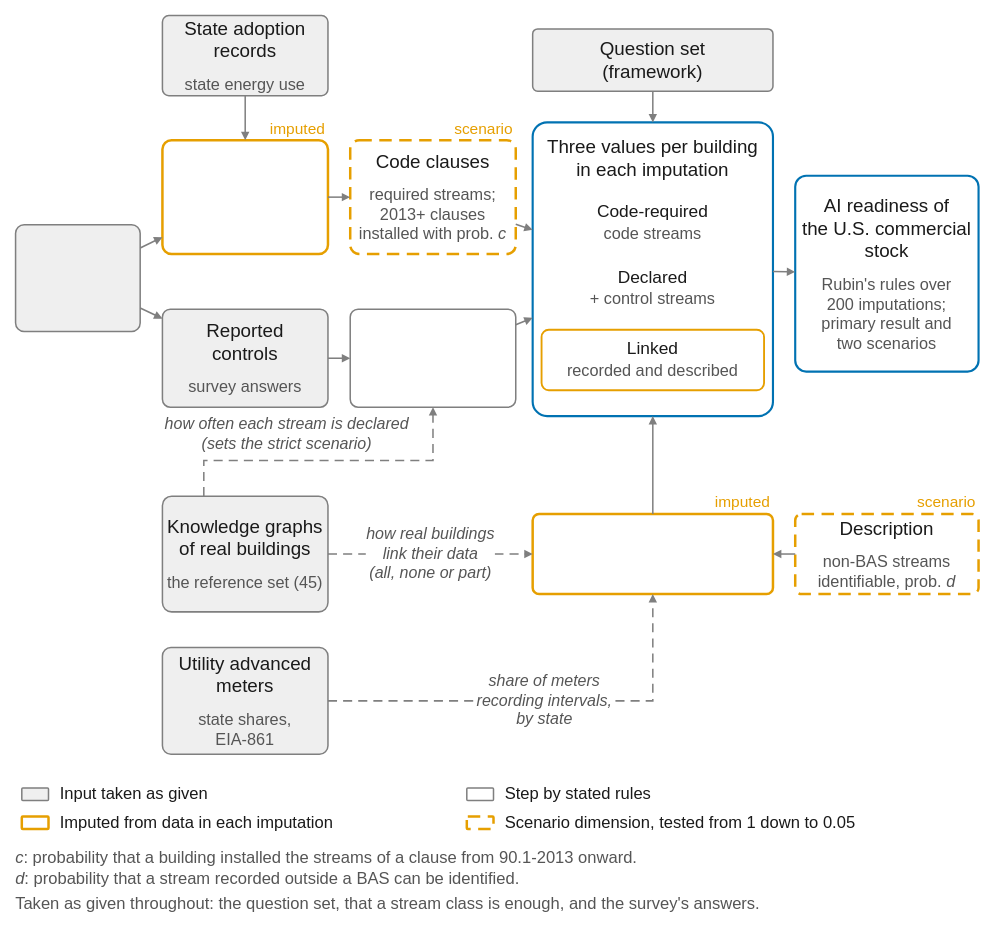
The diagram is 996 pixels wide and 931 high, and some of its shapes have lost their labels. Here are the shapes that lost their labels. From the top down, the box of each, then its label:
(161, 138, 329, 255): Code edition state weighted by division energy use; year uniform in period
(14, 224, 141, 332): CBECS 2018 6,436 buildings
(349, 308, 516, 408): Control mapping implied streams
(531, 512, 774, 595): Recording drawn per stream, by route
